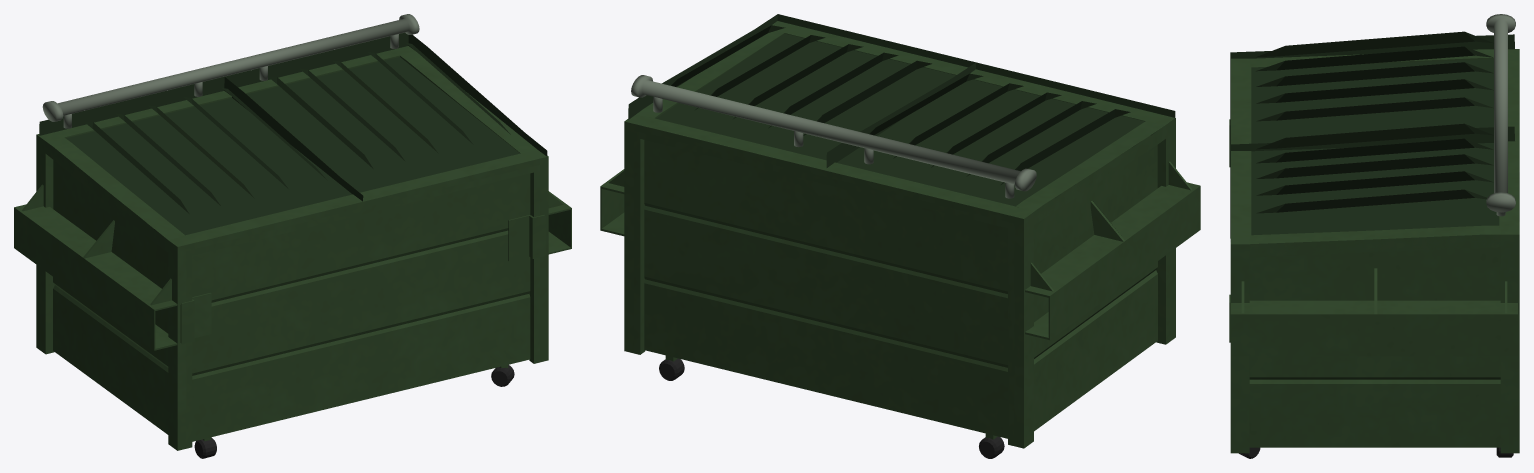
File: dumpster.glb
The picture shows the model from 3 angles, left to right: view 1: azimuth 30°, elevation 25°; view 2: azimuth 150°, elevation 25°; view 3: azimuth 270°, elevation 25°; orthographic projection. The views are drawn at different scales.
Parts seen in each view (by area): view 1: Body, Handle; view 2: Body, Handle; view 3: Body, Handle.
Part boxes in pixels (left/top/right/bottom): Body: left=14, top=46, right=571, bottom=450; Handle: left=39, top=14, right=547, bottom=235; Body: left=600, top=21, right=1200, bottom=448; Handle: left=628, top=14, right=1175, bottom=206; Body: left=1229, top=49, right=1519, bottom=453; Handle: left=1230, top=14, right=1515, bottom=241.
Size of the model in its own units: 14.06 by 8.72 by 8.26.
4 materials, 1 textured.
